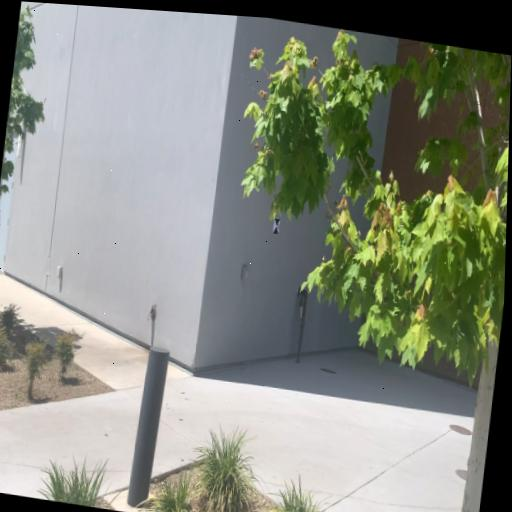target5: (273, 218, 281, 235)
